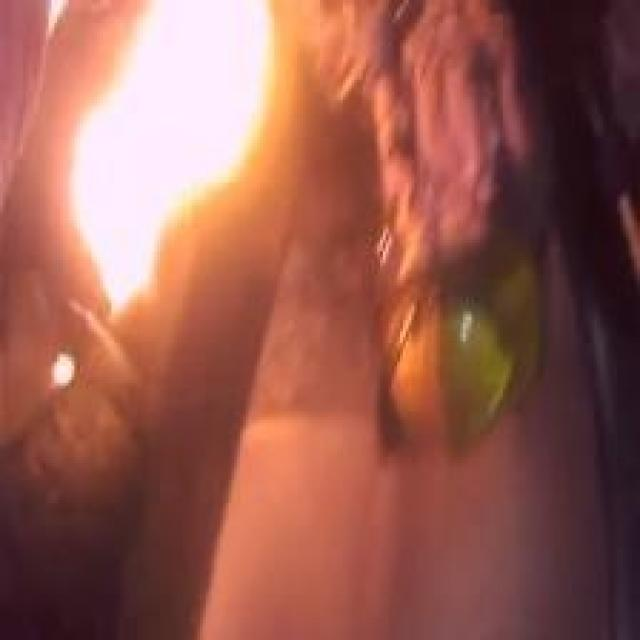fire: (57, 14, 283, 306)
